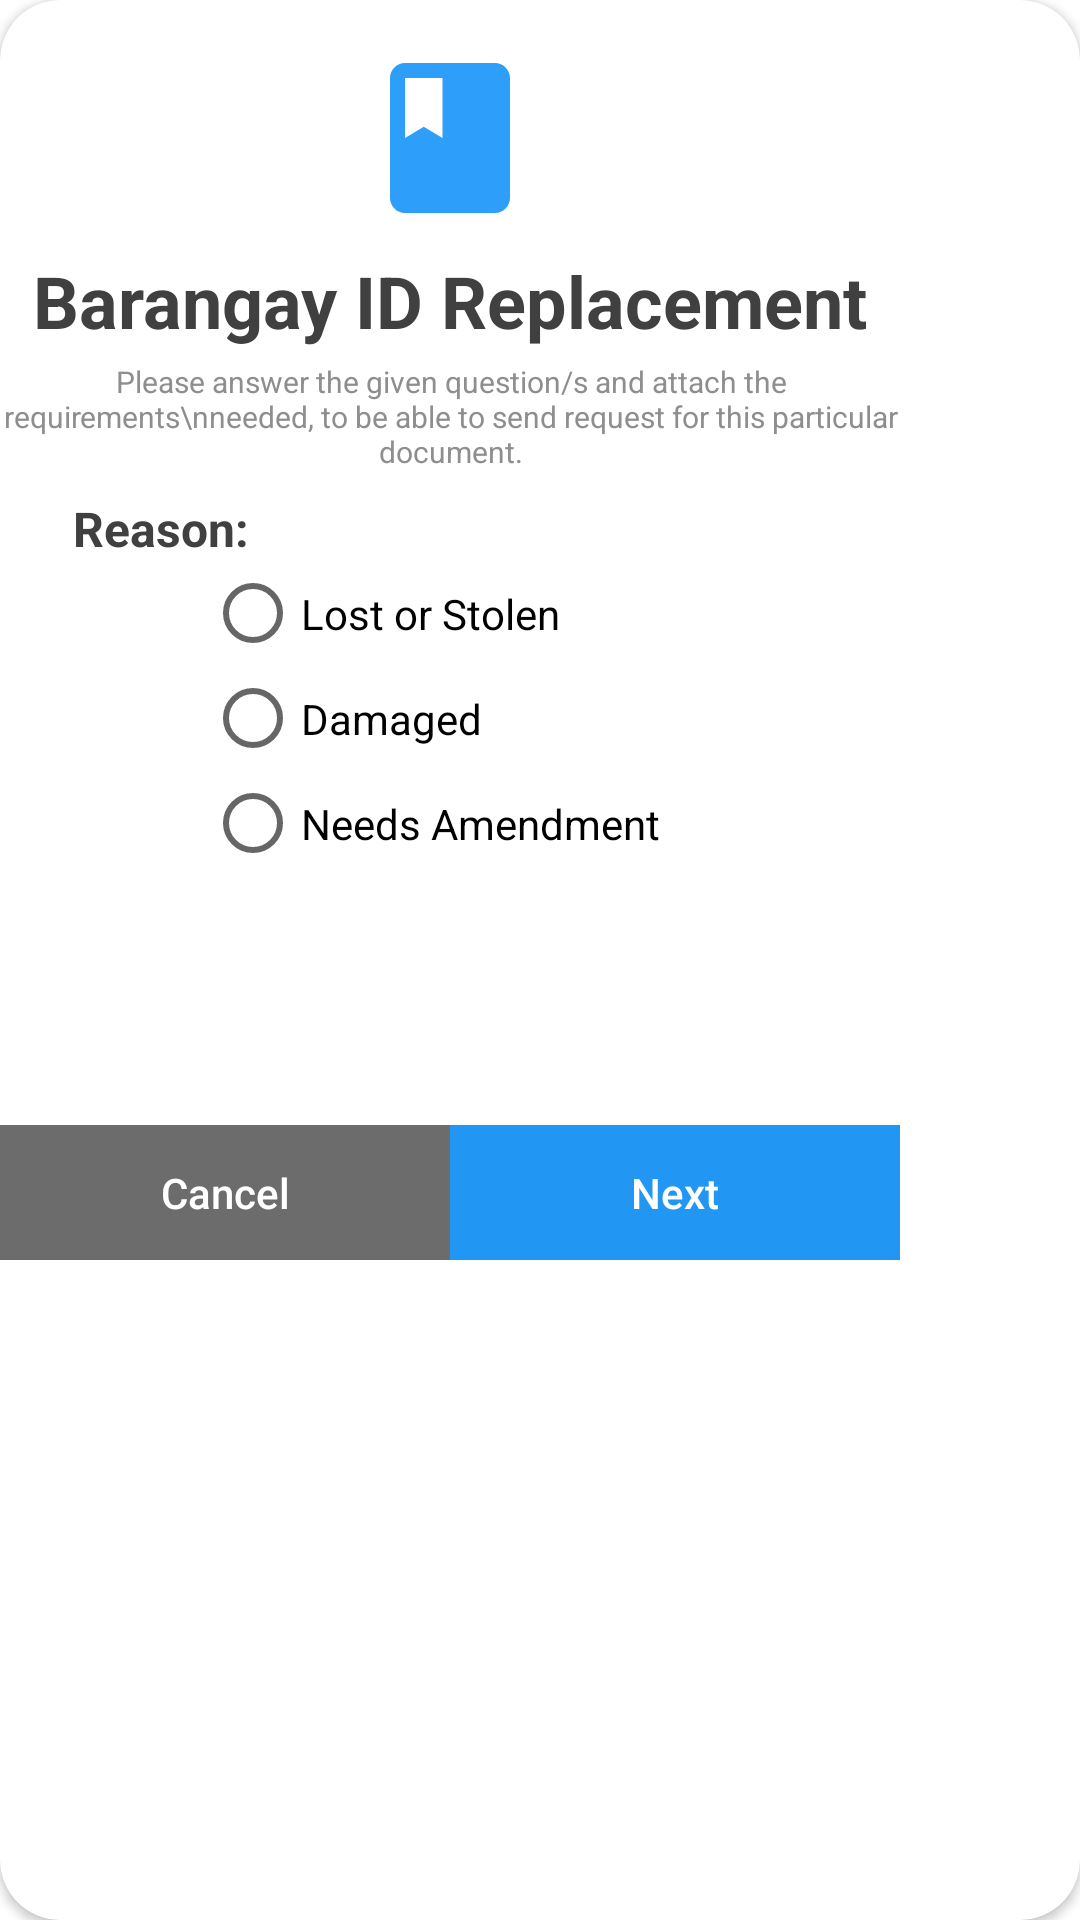

Where to tap for icons on this 1080px×1920px app screen, as [x,y]:
class: [450,138]
